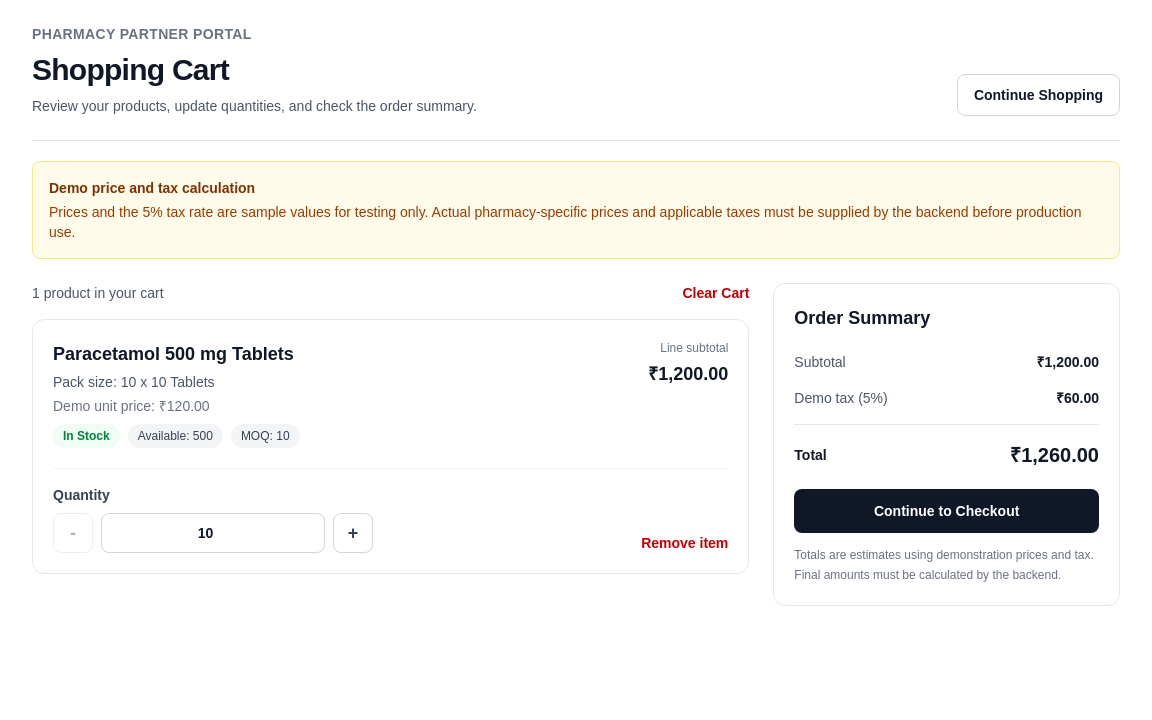
Scenario: Pharmacy Cart Page › updates quantity and persists the change
Click the button named "Increase quantity for Paracetamol 500 mg Tablets": (353, 533) [333,513,373,553]
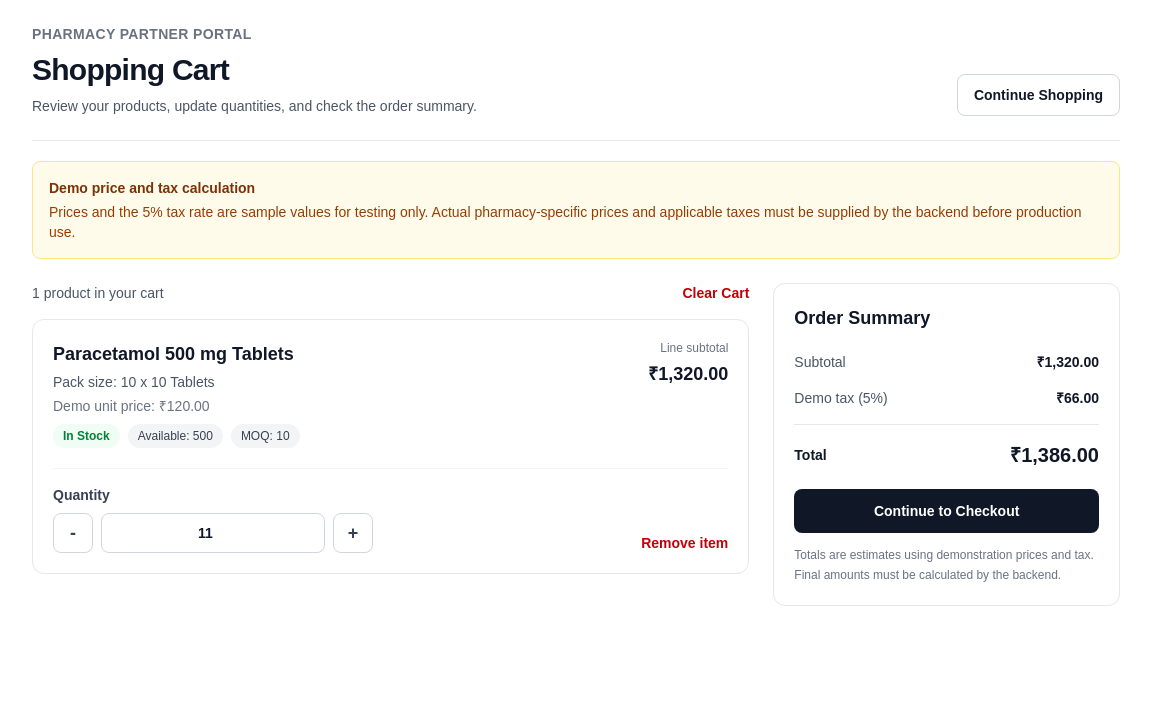
Result: the number field named "Quantity for Paracetamol 500 mg Tablets" holds "11" at [101,513,325,553]
